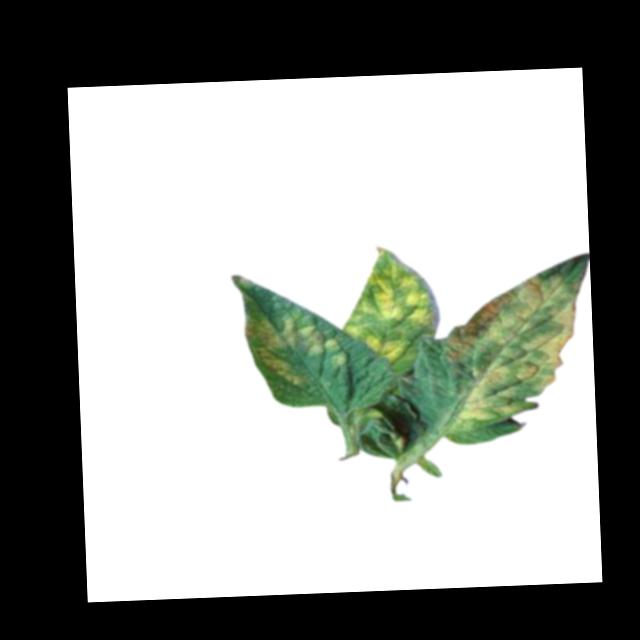Leaf_Mold: (440, 271, 593, 431), (341, 248, 439, 365), (243, 310, 345, 388)
